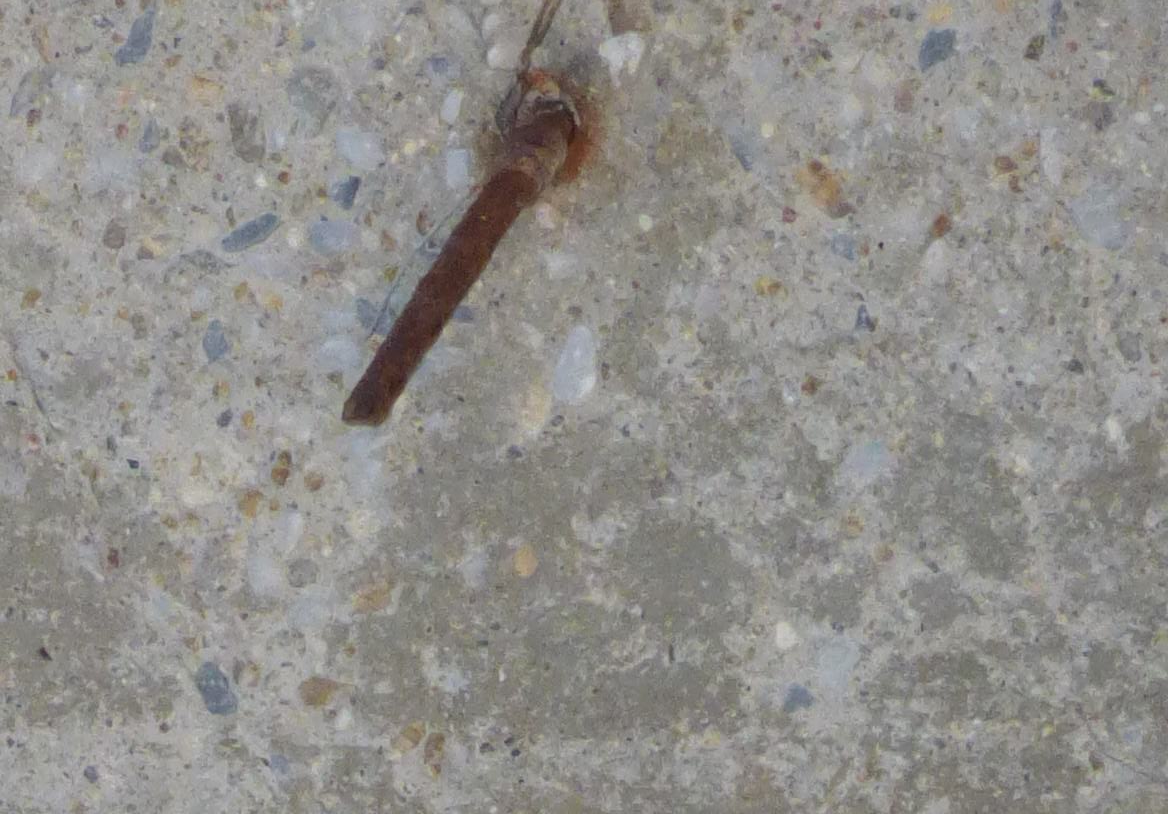Exposed reinforcement: (340, 106, 575, 428)
